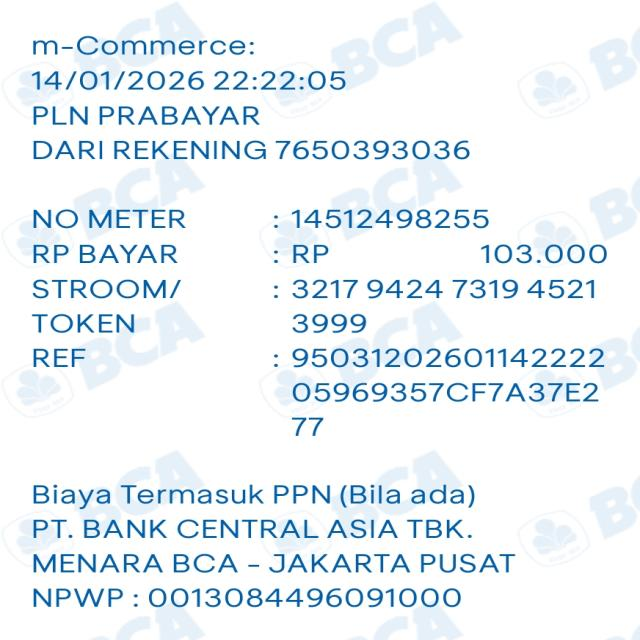date: (26, 67, 367, 98)
store: (28, 98, 268, 133)
total: (285, 240, 618, 274)
